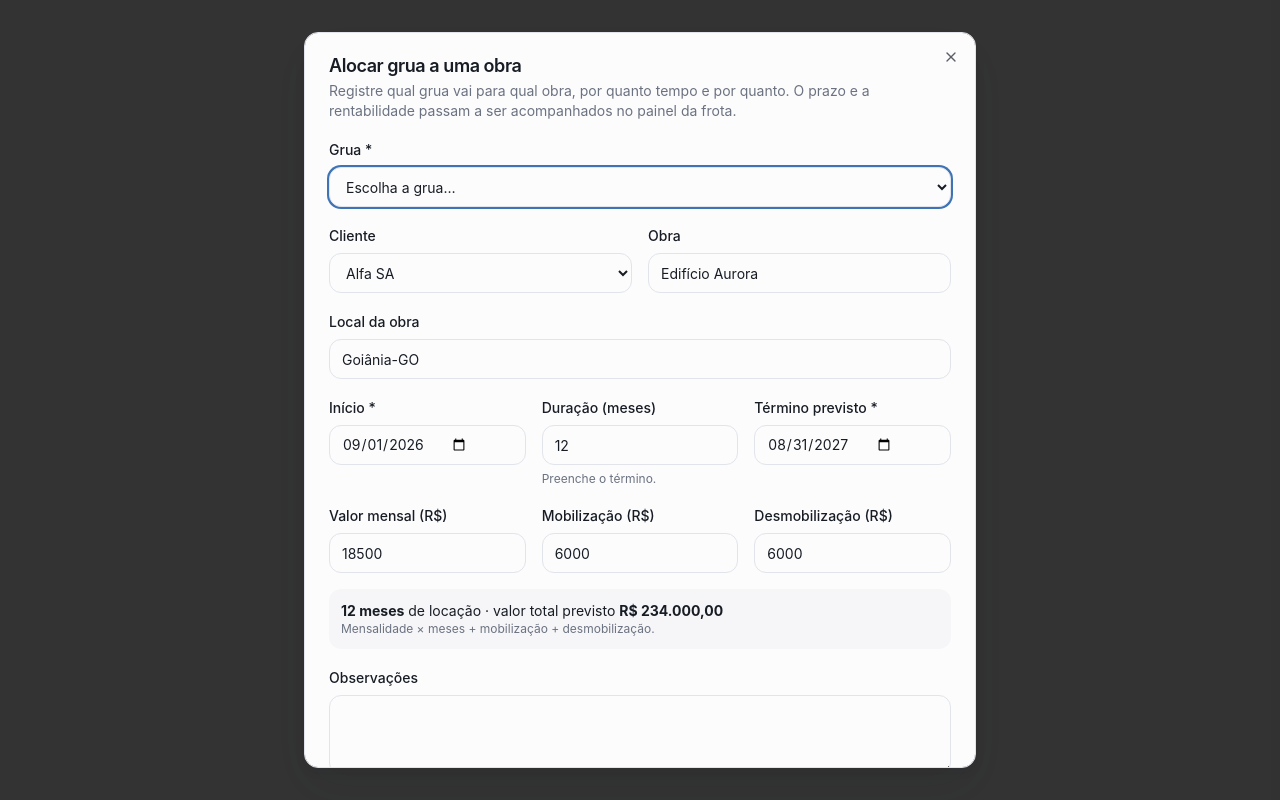
alocar grua a uma obra › grua que não atende às exigências da obra: alerta explicando, sem bloquear
The width and height of the screenshot is (1280, 800).
Select "G2 (Lança 50 m · Altura 20 m · Carga 2.500 kg · Ponta 1.000 kg) · não atende à o" in the dropdown labelled "Grua *" at x=640, y=187, box [329,167,951,207]
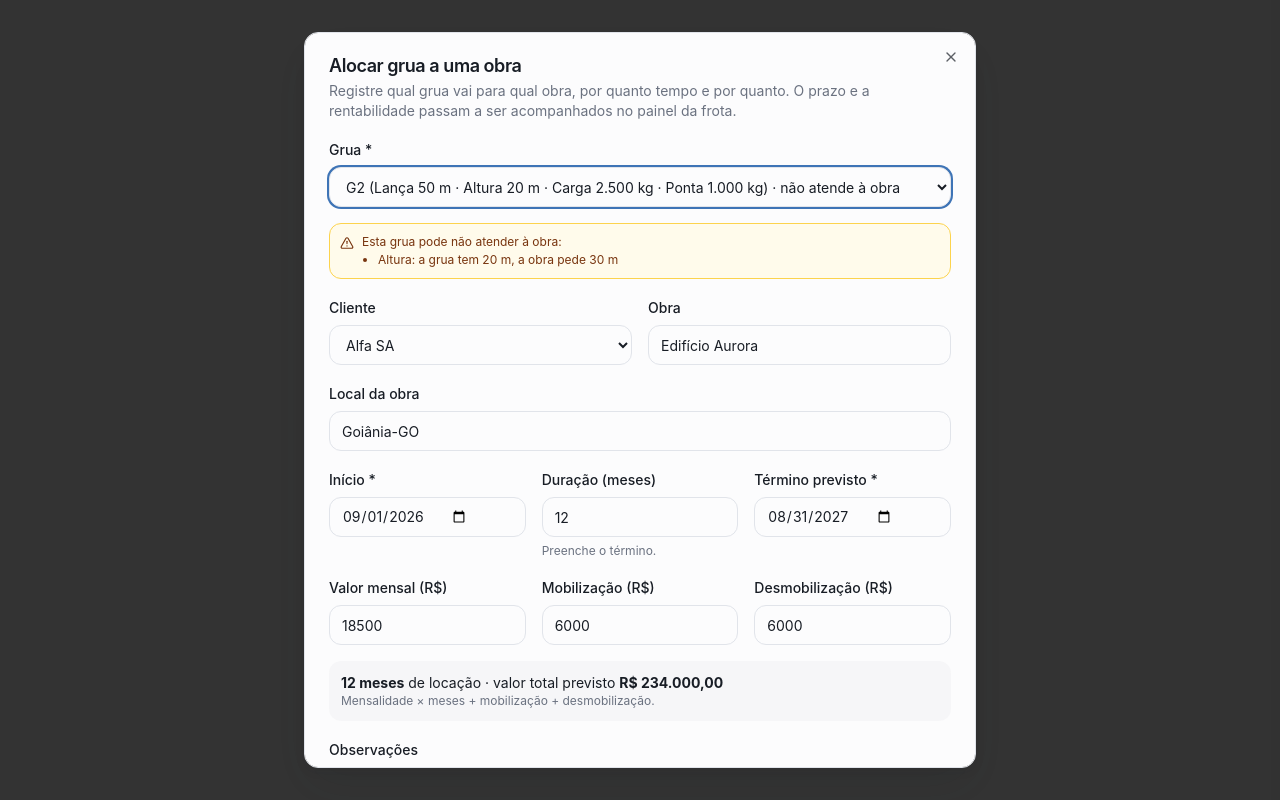
Expected: the message shows "Altura: a grua tem 20 m, a obra pede 30 m", [378,252,618,267]
